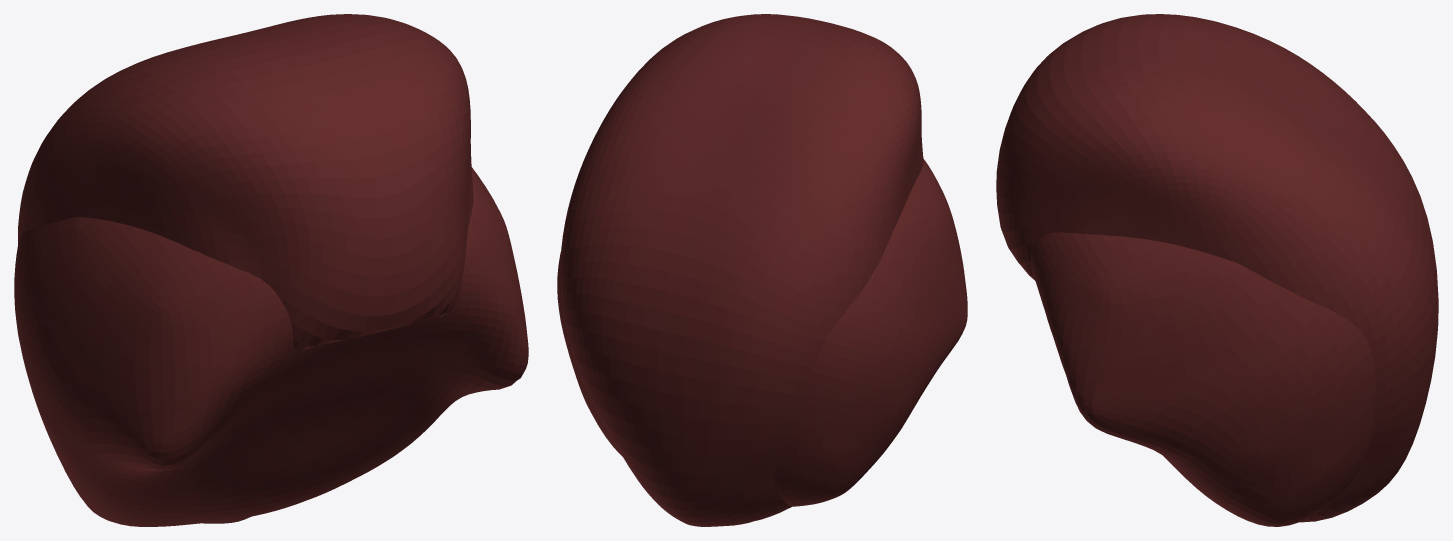
Rendered from FlatTopsHair.fbx.
3 renders of one model, left to right at view 1: azimuth 30°, elevation 25°; view 2: azimuth 150°, elevation 25°; view 3: azimuth 270°, elevation 25°, orthographic. The views are drawn at different scales.
Parts seen in each view (by area): view 1: RonRon_Hair:Group63976, RonRon_Hair2:Group63976; view 2: RonRon_Hair2:Group63976, RonRon_Hair:Group63976; view 3: RonRon_Hair2:Group63976, RonRon_Hair:Group63976.
Boxes of the visible parts, x1,y1,x2,y2 form: RonRon_Hair:Group63976: (14, 167, 528, 526); RonRon_Hair2:Group63976: (18, 14, 473, 523); RonRon_Hair2:Group63976: (560, 14, 923, 526); RonRon_Hair:Group63976: (557, 158, 967, 506); RonRon_Hair2:Group63976: (996, 14, 1438, 522); RonRon_Hair:Group63976: (1030, 232, 1376, 526).
Bounding box in the file's own units: 1.82 × 2.22 × 1.93.
